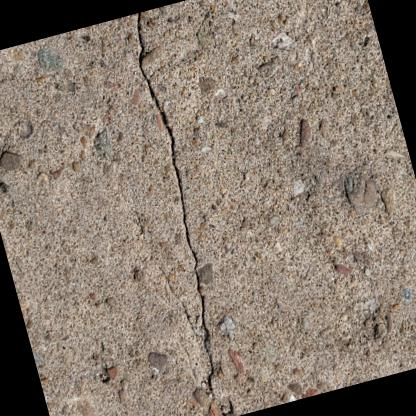crack: (133, 11, 236, 416)
